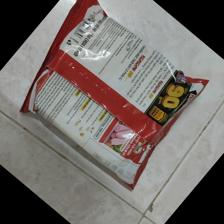Kokomi: (18, 1, 209, 190)
